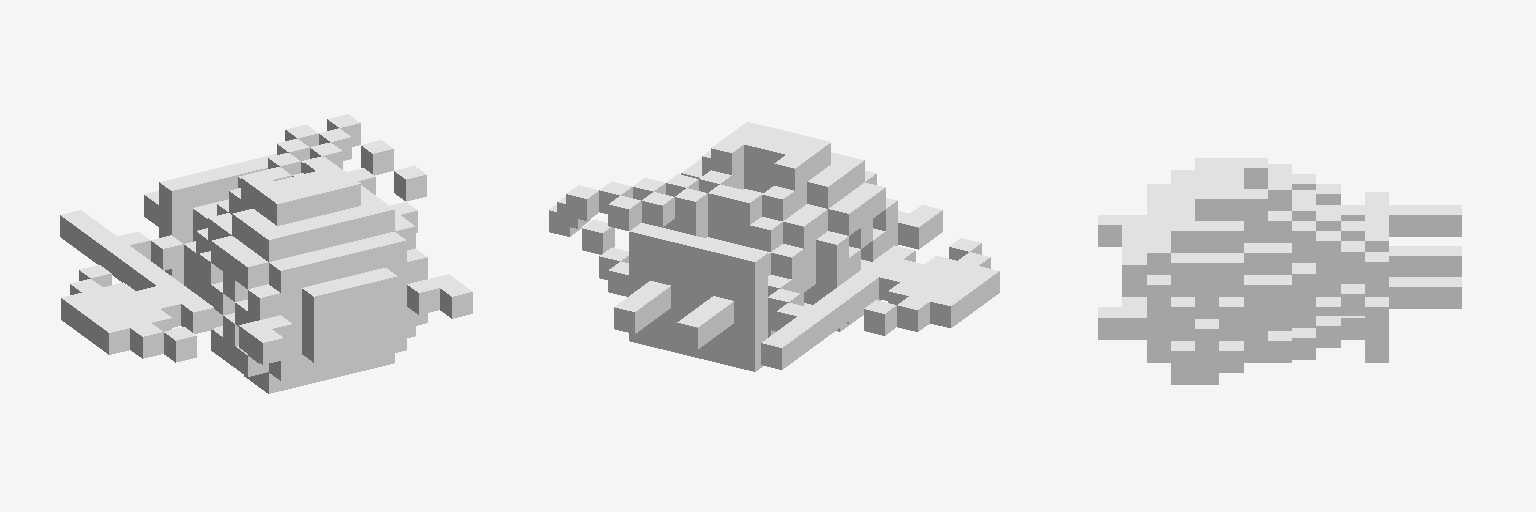
Rendered from knight.obj.
3 renders of one model, left to right at view 1: azimuth 30°, elevation 25°; view 2: azimuth 150°, elevation 25°; view 3: azimuth 270°, elevation 25°, orthographic.
Parts seen in each view (by area): view 1: object 1; view 2: object 1; view 3: object 1.
Boxes of the visible parts, box(x1,y1,x2,y2) form: object 1: box(60, 114, 472, 393); object 1: box(549, 122, 999, 371); object 1: box(1098, 158, 1461, 384).
Size of the model in its own units: 1.8 by 0.8 by 1.5.